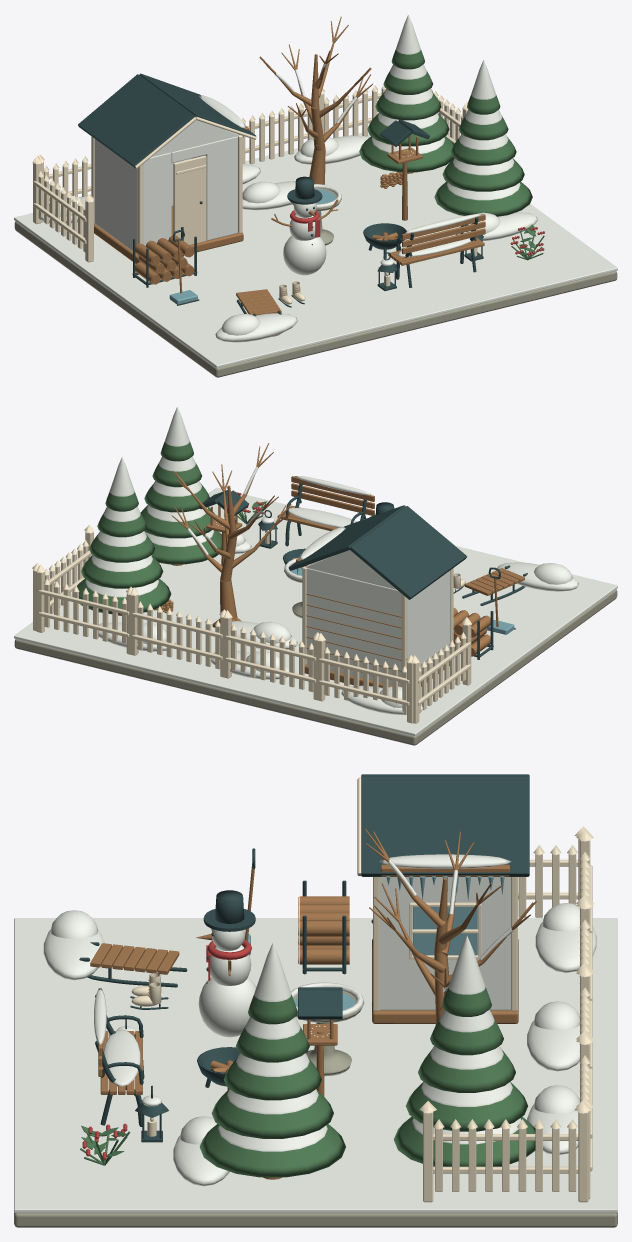
The model's file is almanac-gardens-winter-garden-scene-56dbb7e2__22100.glb.
The picture shows the model from 3 angles, top to bottom: view 1: azimuth 30°, elevation 25°; view 2: azimuth 150°, elevation 25°; view 3: azimuth 270°, elevation 25°; orthographic projection. The views are drawn at different scales.
Parts seen in each view (by area): view 1: 000-winter-ground/winter-ground-snow, 007-potting-shed/potting-shed-sage, 007-potting-shed/potting-shed-iron, 000-winter-ground/winter-ground-soil, 011-snow-laden-fir/snow-laden-fir-leaf, 010-snow-laden-fir/snow-laden-fir-leaf, 007-potting-shed/potting-shed-ivory, 005-picket-fence/picket-fence-ivory, 009-winter-orchard-tree/winter-orchard-tree-bark, 011-snow-laden-fir/snow-laden-fir-snow, 010-snow-laden-fir/snow-laden-fir-snow, 013-snowy-bench/snowy-bench-oak (+19 smaller); view 2: 000-winter-ground/winter-ground-snow, 007-potting-shed/potting-shed-sage, 007-potting-shed/potting-shed-iron, 000-winter-ground/winter-ground-soil, 010-snow-laden-fir/snow-laden-fir-leaf, 011-snow-laden-fir/snow-laden-fir-leaf, 003-picket-fence/picket-fence-ivory, 004-picket-fence/picket-fence-ivory, 002-picket-fence/picket-fence-ivory, 001-picket-fence/picket-fence-ivory, 009-winter-orchard-tree/winter-orchard-tree-bark, 005-picket-fence/picket-fence-ivory (+16 smaller); view 3: 000-winter-ground/winter-ground-snow, 007-potting-shed/potting-shed-iron, 011-snow-laden-fir/snow-laden-fir-leaf, 010-snow-laden-fir/snow-laden-fir-leaf, 007-potting-shed/potting-shed-sage, 000-winter-ground/winter-ground-soil, 006-picket-fence/picket-fence-ivory, 011-snow-laden-fir/snow-laden-fir-snow, 010-snow-laden-fir/snow-laden-fir-snow, 009-winter-orchard-tree/winter-orchard-tree-bark, 012-snowman/snowman-snow, 007-potting-shed/potting-shed-ivory (+29 smaller).
Part boxes in pixels (box(x1,y1,x2,y2)): 000-winter-ground/winter-ground-snow: box(14, 132, 617, 367); 007-potting-shed/potting-shed-sage: box(94, 120, 238, 254); 007-potting-shed/potting-shed-iron: box(78, 73, 256, 204); 000-winter-ground/winter-ground-soil: box(14, 221, 617, 377); 011-snow-laden-fir/snow-laden-fir-leaf: box(434, 95, 532, 216); 010-snow-laden-fir/snow-laden-fir-leaf: box(359, 49, 453, 172); 007-potting-shed/potting-shed-ivory: box(91, 116, 256, 256); 005-picket-fence/picket-fence-ivory: box(32, 155, 94, 262); 009-winter-orchard-tree/winter-orchard-tree-bark: box(259, 16, 372, 184); 011-snow-laden-fir/snow-laden-fir-snow: box(447, 60, 520, 200); 010-snow-laden-fir/snow-laden-fir-snow: box(371, 15, 445, 153); 013-snowy-bench/snowy-bench-oak: box(388, 214, 485, 265); 000-winter-ground/winter-ground-snow: box(14, 487, 617, 735); 007-potting-shed/potting-shed-sage: box(306, 550, 450, 686); 007-potting-shed/potting-shed-iron: box(288, 505, 466, 599); 000-winter-ground/winter-ground-soil: box(14, 589, 617, 745); 010-snow-laden-fir/snow-laden-fir-leaf: box(73, 492, 171, 614); 011-snow-laden-fir/snow-laden-fir-leaf: box(141, 441, 221, 564); 003-picket-fence/picket-fence-ivory: box(130, 587, 225, 677); 004-picket-fence/picket-fence-ivory: box(36, 564, 132, 654); 002-picket-fence/picket-fence-ivory: box(223, 610, 319, 699); 001-picket-fence/picket-fence-ivory: box(317, 633, 413, 723); 009-winter-orchard-tree/winter-orchard-tree-bark: box(171, 443, 291, 627); 005-picket-fence/picket-fence-ivory: box(411, 617, 471, 723); 000-winter-ground/winter-ground-snow: box(14, 918, 617, 1213); 007-potting-shed/potting-shed-iron: box(361, 774, 529, 923); 011-snow-laden-fir/snow-laden-fir-leaf: box(199, 995, 345, 1177); 010-snow-laden-fir/snow-laden-fir-leaf: box(393, 987, 535, 1166); 007-potting-shed/potting-shed-sage: box(380, 877, 510, 1010); 000-winter-ground/winter-ground-soil: box(14, 1213, 617, 1227); 006-picket-fence/picket-fence-ivory: box(419, 1101, 591, 1202); 011-snow-laden-fir/snow-laden-fir-snow: box(218, 943, 327, 1151); 010-snow-laden-fir/snow-laden-fir-snow: box(412, 936, 521, 1144); 009-winter-orchard-tree/winter-orchard-tree-bark: box(365, 829, 536, 1024); 012-snowman/snowman-snow: box(198, 929, 256, 1037); 007-potting-shed/potting-shed-ivory: box(357, 777, 517, 1011).
Size of the model in its own units: 8 by 3.54 by 7.
